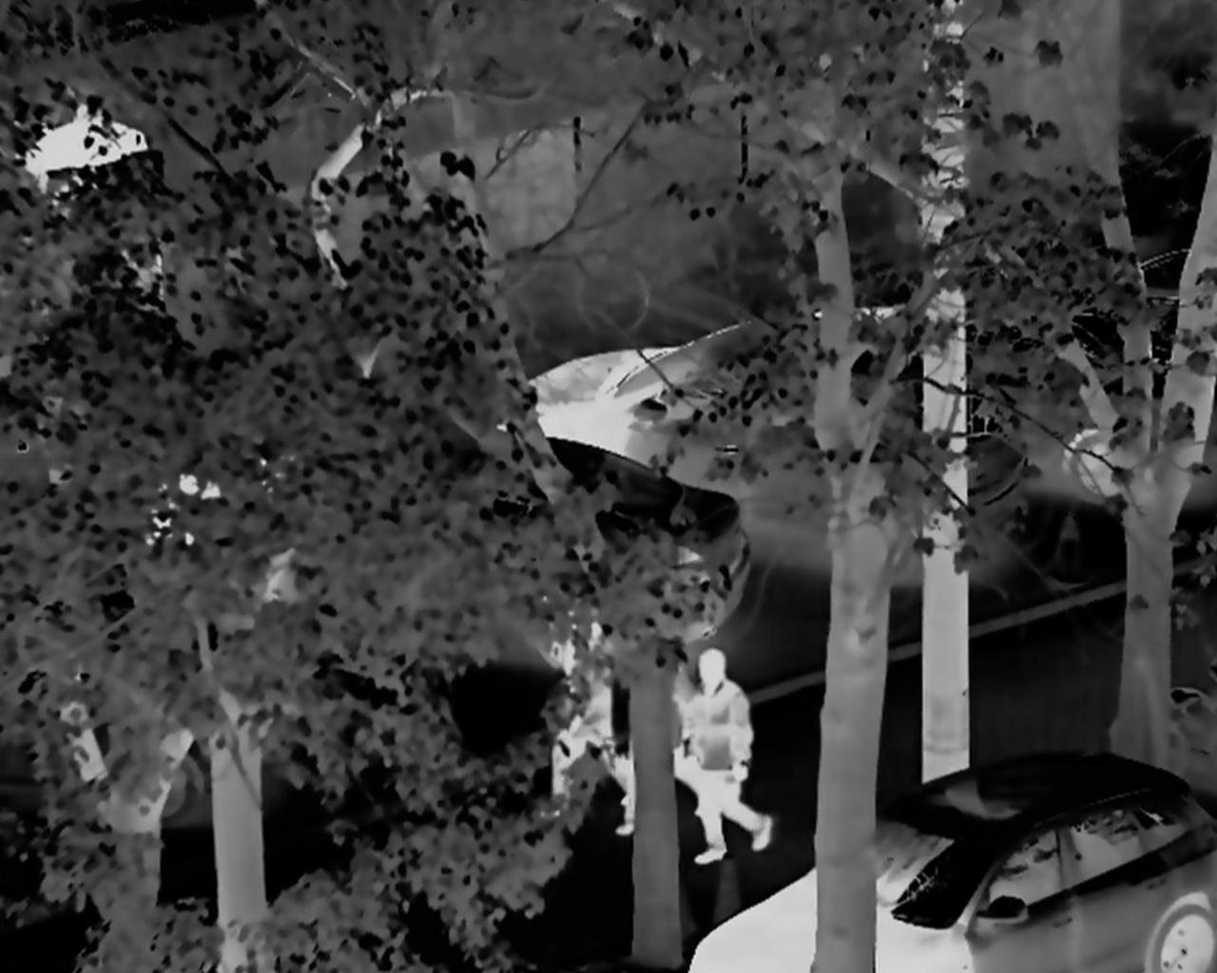person: (683, 647, 776, 862), (550, 614, 623, 838)
